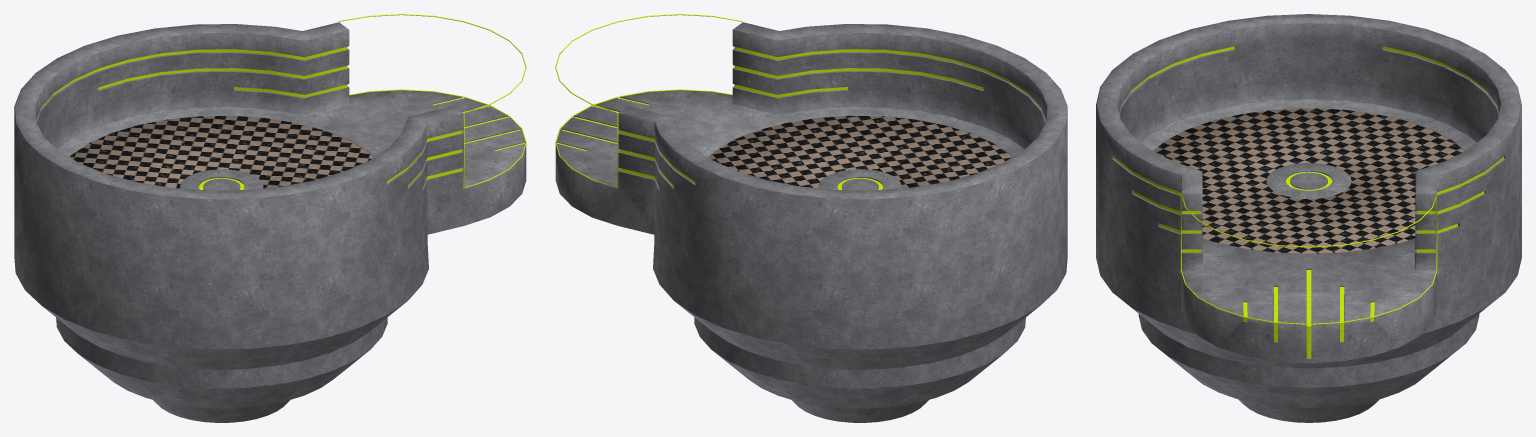
File: starting_platform.glb
3 views of the same model, side by side, from view 1: azimuth 30°, elevation 25°; view 2: azimuth 150°, elevation 25°; view 3: azimuth 270°, elevation 25° (orthographic). The views are drawn at different scales.
Parts seen in each view (by area): view 1: StartingPlatform, StartOutline; view 2: StartingPlatform, StartOutline; view 3: StartingPlatform, StartOutline.
Part boxes in pixels (x1,y1,x2,y2): StartingPlatform: [14, 22, 526, 422]; StartOutline: [339, 14, 526, 188]; StartingPlatform: [555, 22, 1067, 422]; StartOutline: [555, 14, 742, 188]; StartingPlatform: [1096, 14, 1521, 422]; StartOutline: [1180, 193, 1437, 324].
Size of the model in its own units: 25.48 by 14.72 by 19.59.
4 materials, 2 textured.
